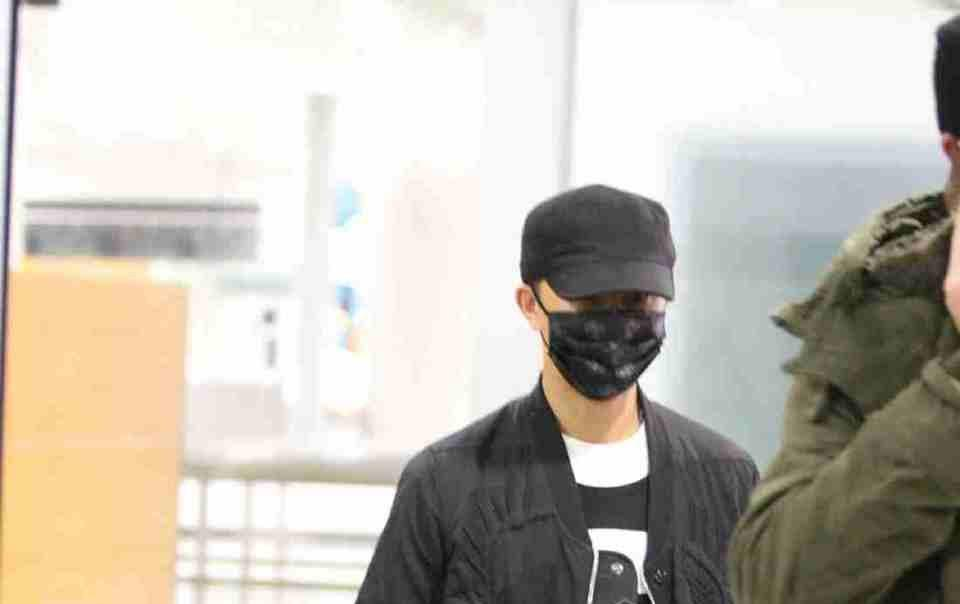OK: (538, 274, 667, 392)
